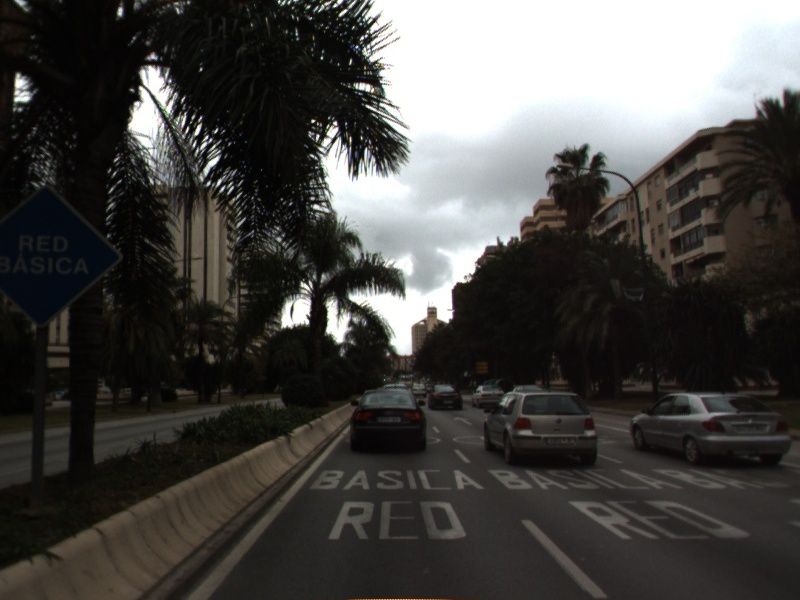STRAIGHT: (451, 414, 475, 427)
